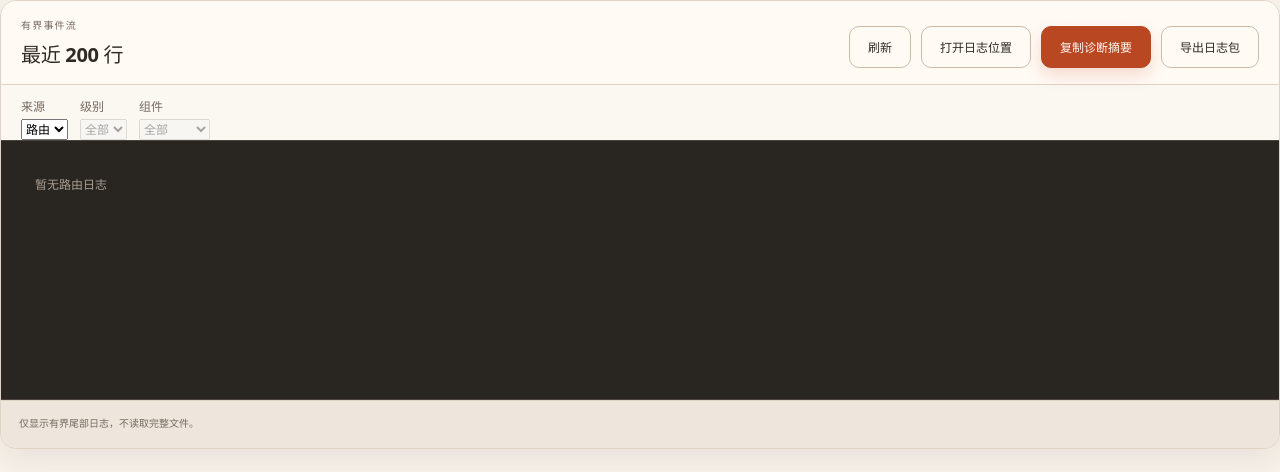
Scenario: LogsPage › falls back to the local diagnostic snapshot when collect fails
Check: the text "暂无路由日志" is shown, box 35,178 -> 107,192
Step 1. Click the button "复制诊断摘要" → x=1096, y=47, box 1041,26 -> 1151,68
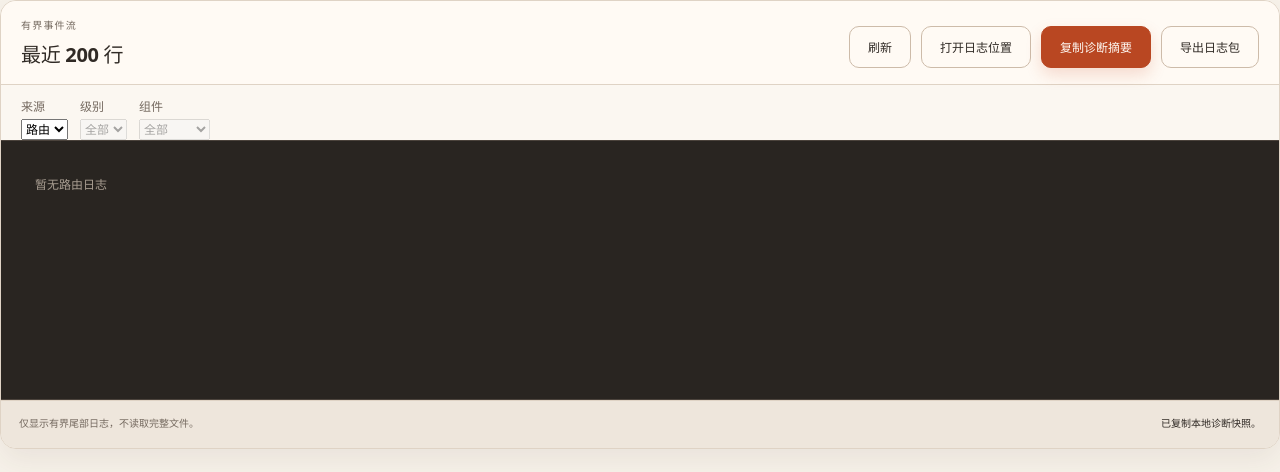
Check: the text "已复制本地诊断快照。" is shown, box 1161,415 -> 1261,434
